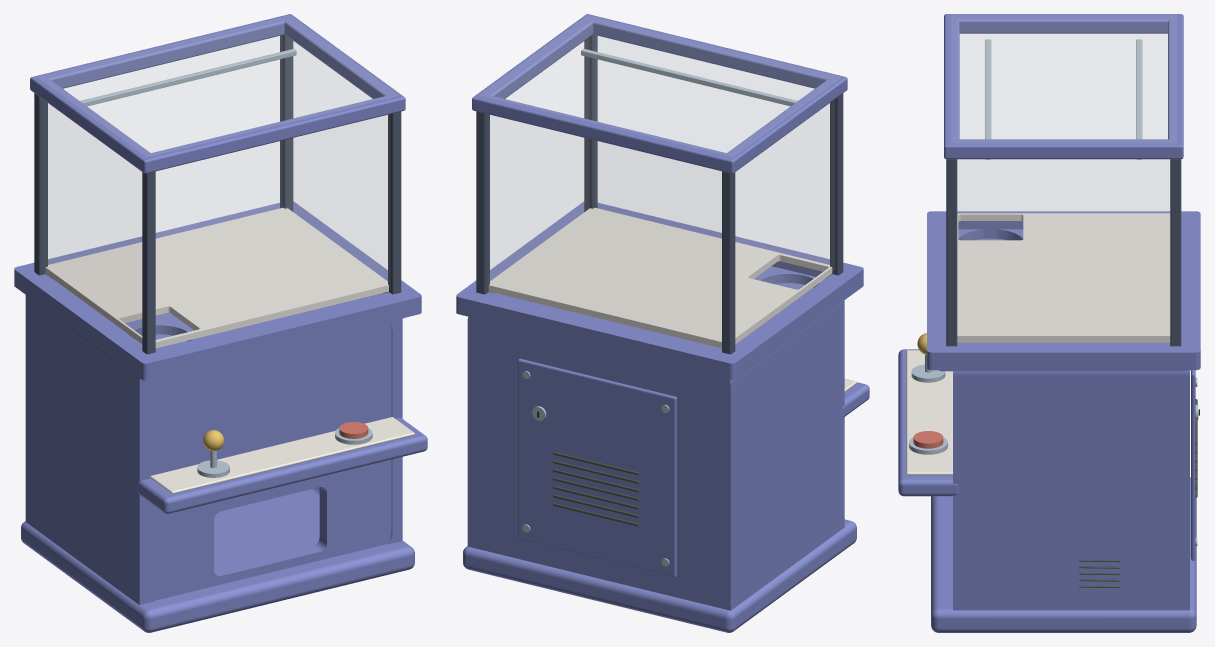
Rendered from machine-sky.prefab.glb.
The picture shows the model from 3 angles, left to right: view 1: azimuth 30°, elevation 25°; view 2: azimuth 150°, elevation 25°; view 3: azimuth 270°, elevation 25°; orthographic projection. The views are drawn at different scales.
Parts seen in each view (by area): view 1: CabinetShell_Batch0, CabinetShell_Batch1, CabinetShell_Batch2; view 2: CabinetShell_Batch0, CabinetShell_Batch1, CabinetShell_Batch2; view 3: CabinetShell_Batch0, CabinetShell_Batch1, CabinetShell_Batch2, ClawJoystick_Batch0, ClawButton_Batch1.
Boxes of the visible parts, bbox=[...] form: CabinetShell_Batch0: bbox=[14, 14, 427, 632]; CabinetShell_Batch1: bbox=[48, 35, 387, 280]; CabinetShell_Batch2: bbox=[80, 48, 296, 106]; CabinetShell_Batch0: bbox=[456, 14, 869, 632]; CabinetShell_Batch1: bbox=[490, 35, 829, 280]; CabinetShell_Batch2: bbox=[522, 49, 797, 566]; CabinetShell_Batch0: bbox=[898, 14, 1200, 632]; CabinetShell_Batch1: bbox=[957, 33, 1169, 213]; CabinetShell_Batch2: bbox=[985, 39, 1198, 546]; ClawJoystick_Batch0: bbox=[911, 354, 945, 382]; ClawButton_Batch1: bbox=[913, 431, 943, 448].
Bounding box in the file's own units: 0.257 × 0.4292 × 0.232.
Materials: 3 (3 with a texture image).
